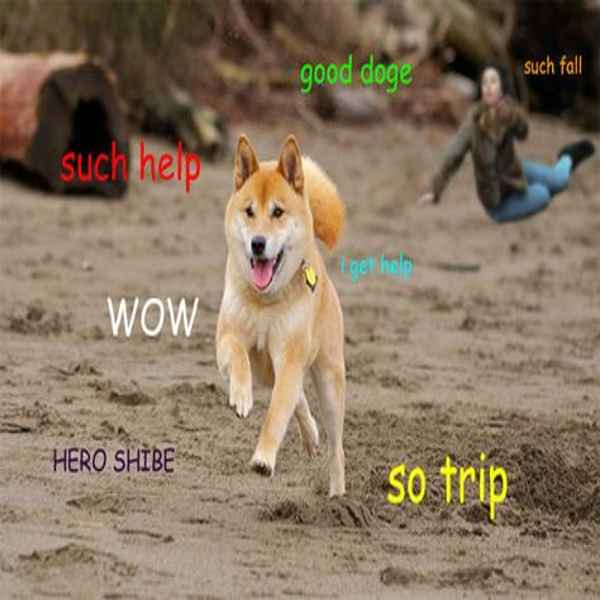doge: (214, 134, 321, 295)
